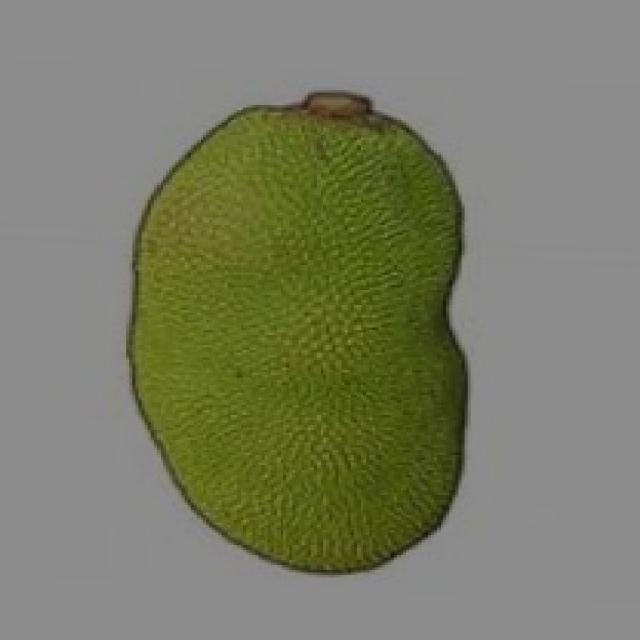Fruit: (98, 57, 514, 445), (101, 275, 492, 600)
